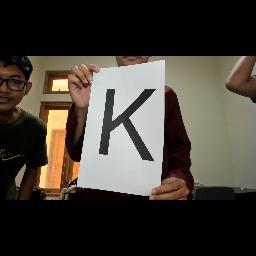k: (97, 85, 157, 167)
